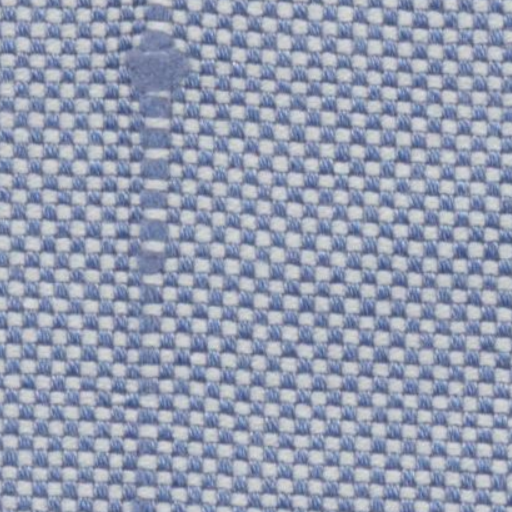DaiSha: (124, 4, 190, 502)
